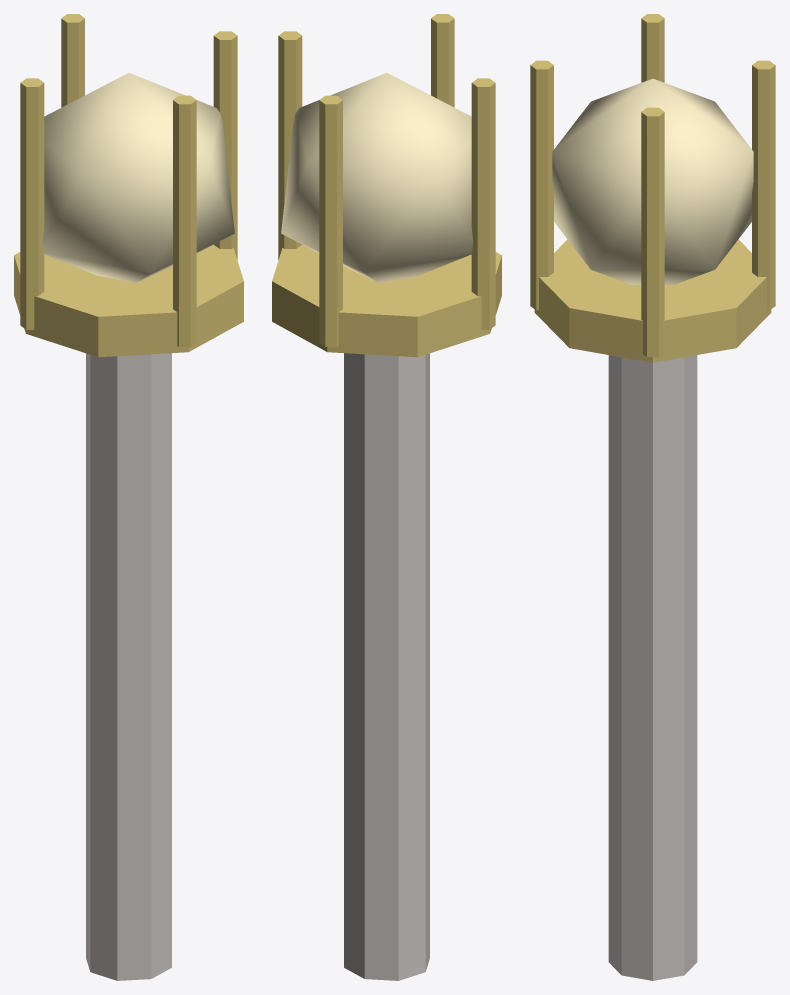
The model's file is Deco_LanternPost.fbx.
3 views of the same model, side by side, from view 1: azimuth 30°, elevation 25°; view 2: azimuth 150°, elevation 25°; view 3: azimuth 270°, elevation 25° (orthographic).
Visible parts, largest first — view 1: Deco_LanternPost_Post, Deco_LanternPost_Glow, Deco_LanternPost, Deco_LanternPost_Plate; view 2: Deco_LanternPost_Post, Deco_LanternPost_Glow, Deco_LanternPost, Deco_LanternPost_Plate; view 3: Deco_LanternPost_Post, Deco_LanternPost_Glow, Deco_LanternPost, Deco_LanternPost_Plate.
Part boxes in pixels (x1,y1,x2,y2): Deco_LanternPost_Post: [86, 353, 171, 980]; Deco_LanternPost_Glow: [42, 73, 234, 282]; Deco_LanternPost: [20, 14, 237, 346]; Deco_LanternPost_Plate: [14, 244, 243, 357]; Deco_LanternPost_Post: [344, 353, 429, 980]; Deco_LanternPost_Glow: [281, 73, 473, 282]; Deco_LanternPost: [278, 14, 495, 346]; Deco_LanternPost_Plate: [272, 244, 501, 357]; Deco_LanternPost_Post: [608, 355, 697, 980]; Deco_LanternPost_Glow: [552, 78, 753, 284]; Deco_LanternPost: [530, 14, 775, 357]; Deco_LanternPost_Plate: [534, 239, 771, 362].
Size of the model in its own units: 0.1639 by 0.67 by 0.166.
